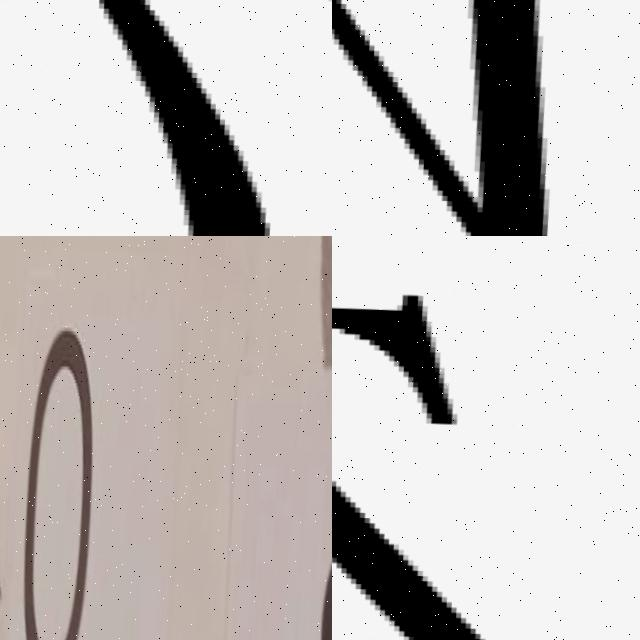0: (11, 300, 111, 640)
7: (35, 0, 332, 236)
V: (332, 0, 556, 236)
Z: (332, 263, 599, 640)
